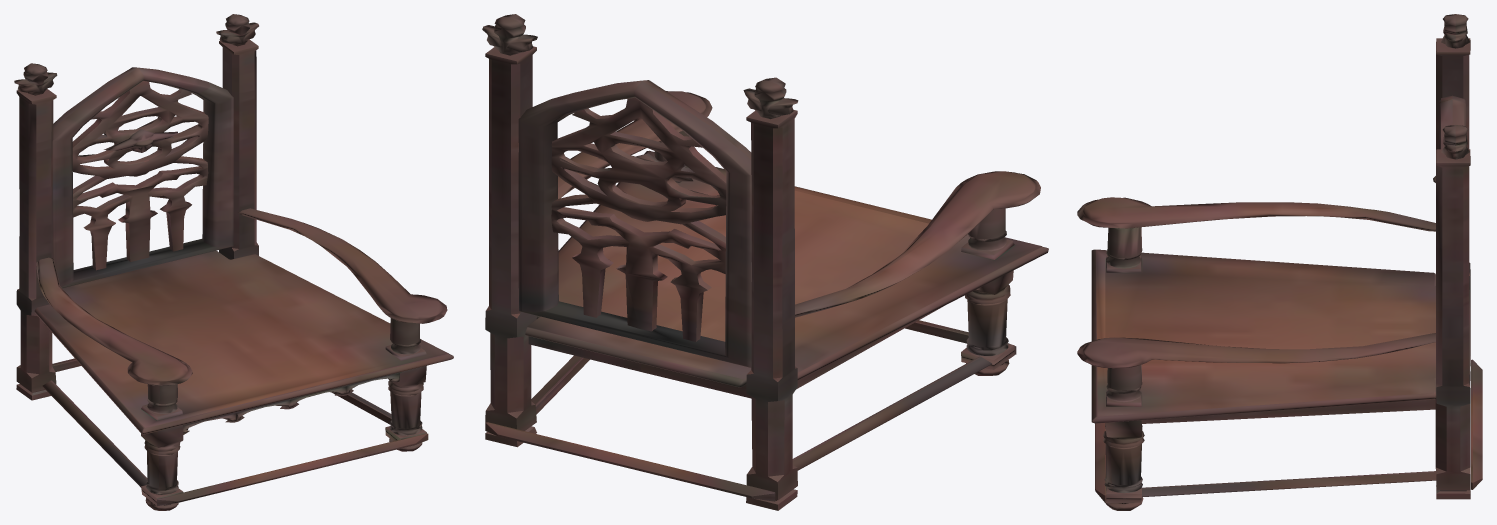
Rendered from ph-woodenchair-01.glb.
3 views of the same model, side by side, from view 1: azimuth 30°, elevation 25°; view 2: azimuth 150°, elevation 25°; view 3: azimuth 270°, elevation 25° (orthographic). The views are drawn at different scales.
Parts seen in each view (by area): view 1: WoodenChair_01; view 2: WoodenChair_01; view 3: WoodenChair_01.
Part boxes in pixels (box(x1,y1,x2,y2)): WoodenChair_01: box(14, 14, 453, 510); WoodenChair_01: box(482, 14, 1048, 510); WoodenChair_01: box(1077, 14, 1482, 510).
Size of the model in its own units: 0.9993 by 1 by 1.
1 material, 1 textured.
